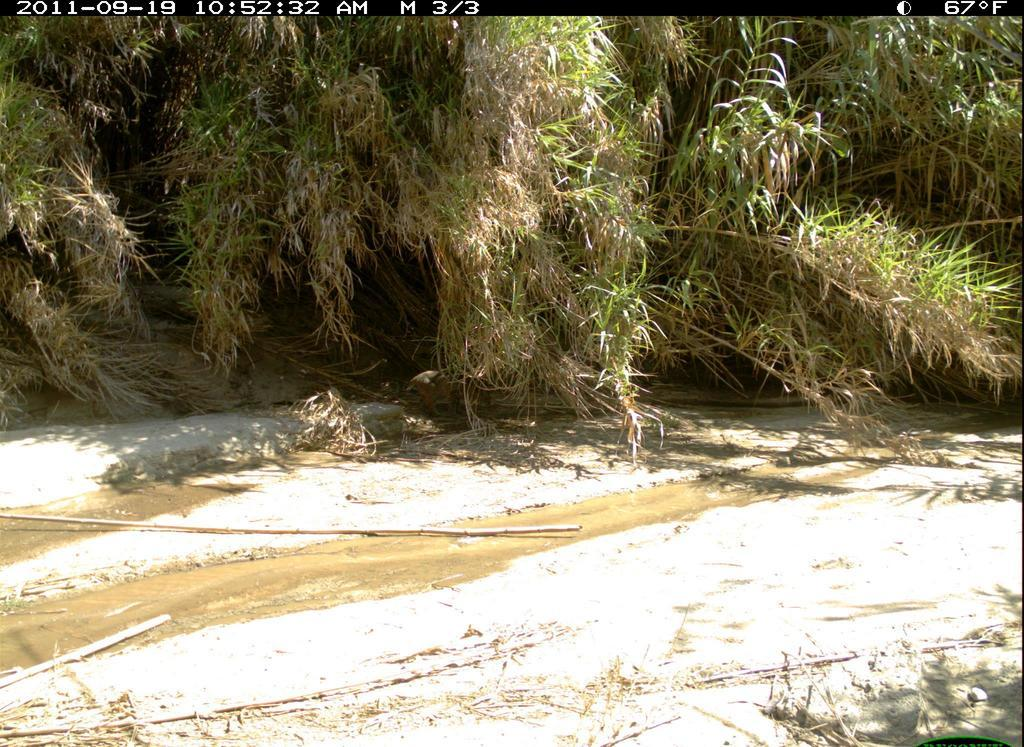bobcat: (399, 367, 498, 422)
